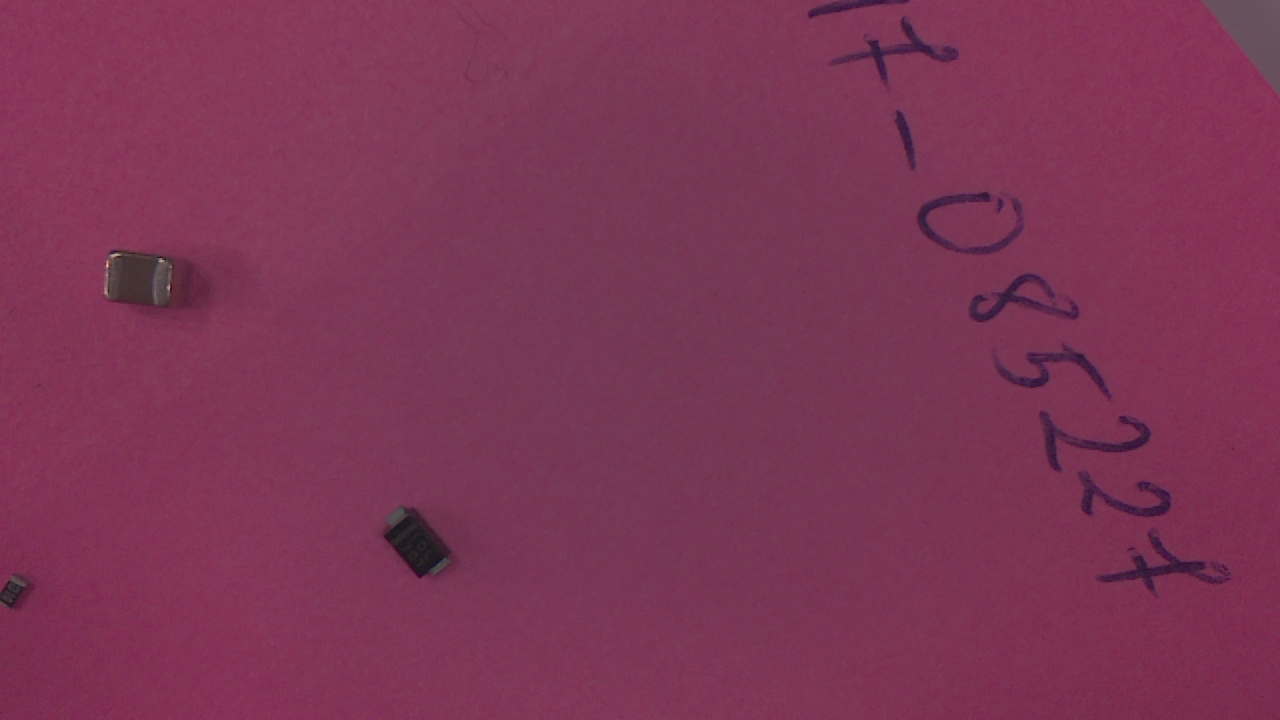Condensator: (102, 255, 185, 315)
Diode: (386, 508, 457, 586)
Resistor: (8, 579, 35, 615)
